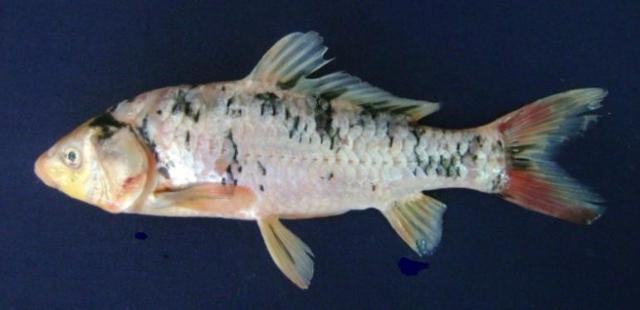Mulut: (20, 135, 81, 221)
Sirip Anal: (382, 190, 448, 262)
Sirip Dada: (148, 181, 264, 223)
Sirip Ekor: (492, 82, 616, 232)
Sirip Perut: (254, 212, 322, 298)
Sirip Punggung: (249, 19, 445, 126)
